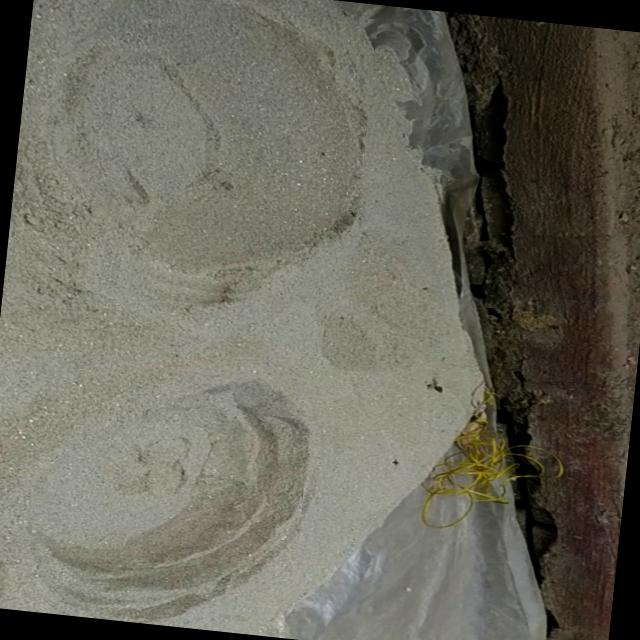C20: (15, 0, 365, 294), (34, 386, 308, 603)
